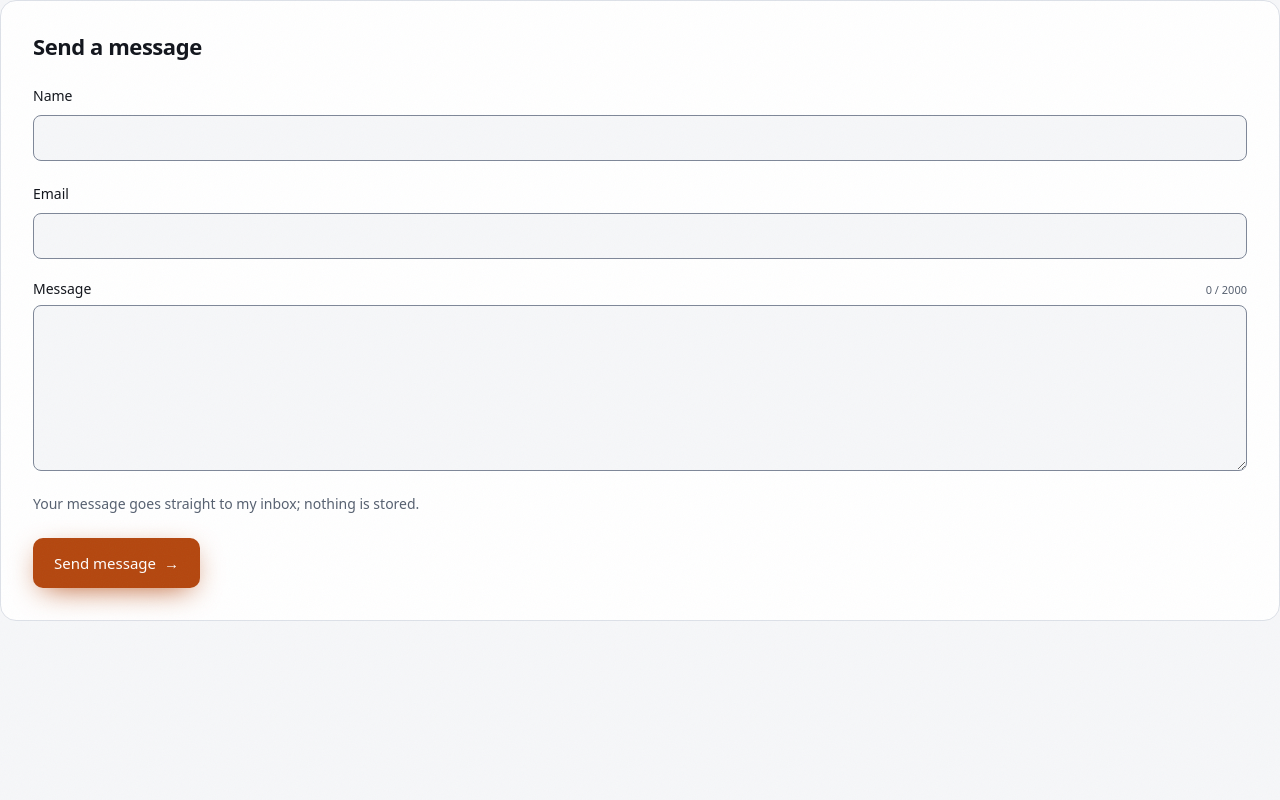
Test: ContactForm › sends once, showing Sending…, even if clicked again while the human check runs
Type "Ada" into the field labelled "Name" at (640, 138), box [33,115,1247,161]
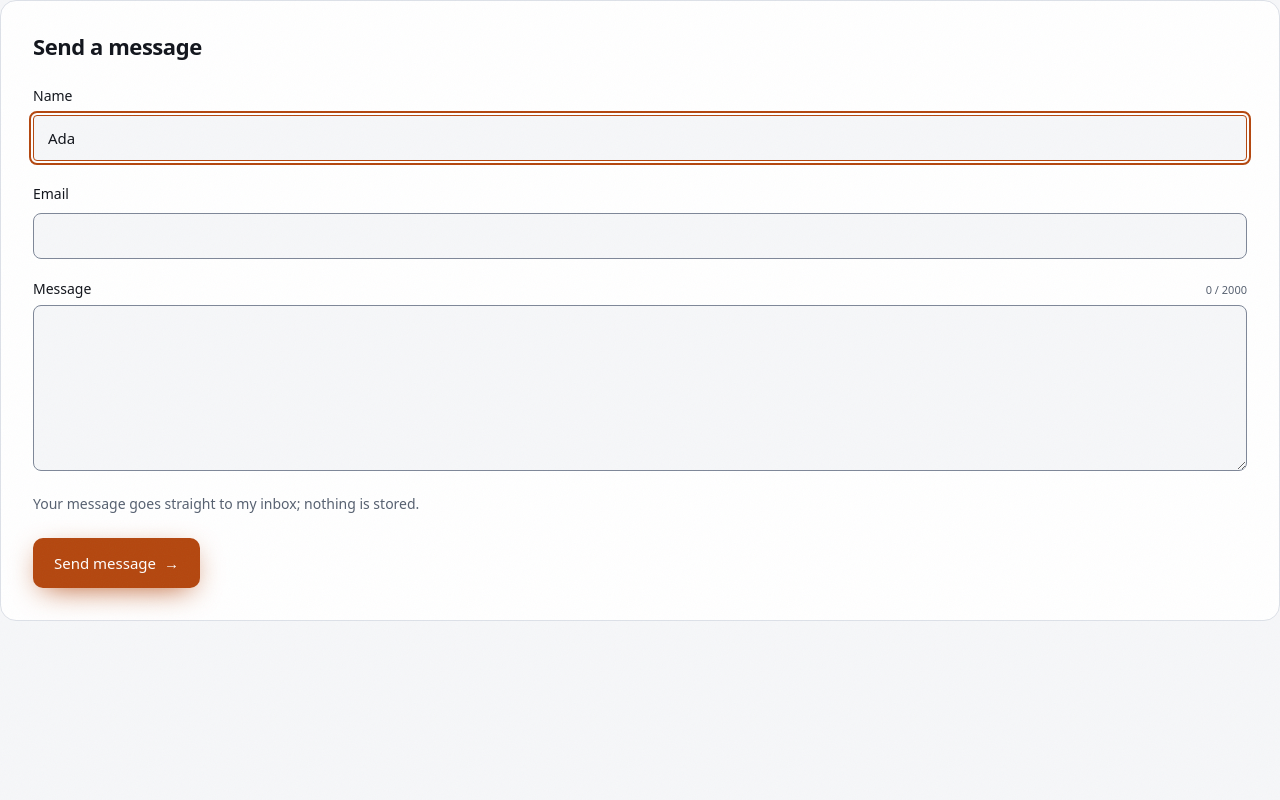
Type "ada@example.com" into the field labelled "Email" at (640, 236), box [33,213,1247,259]
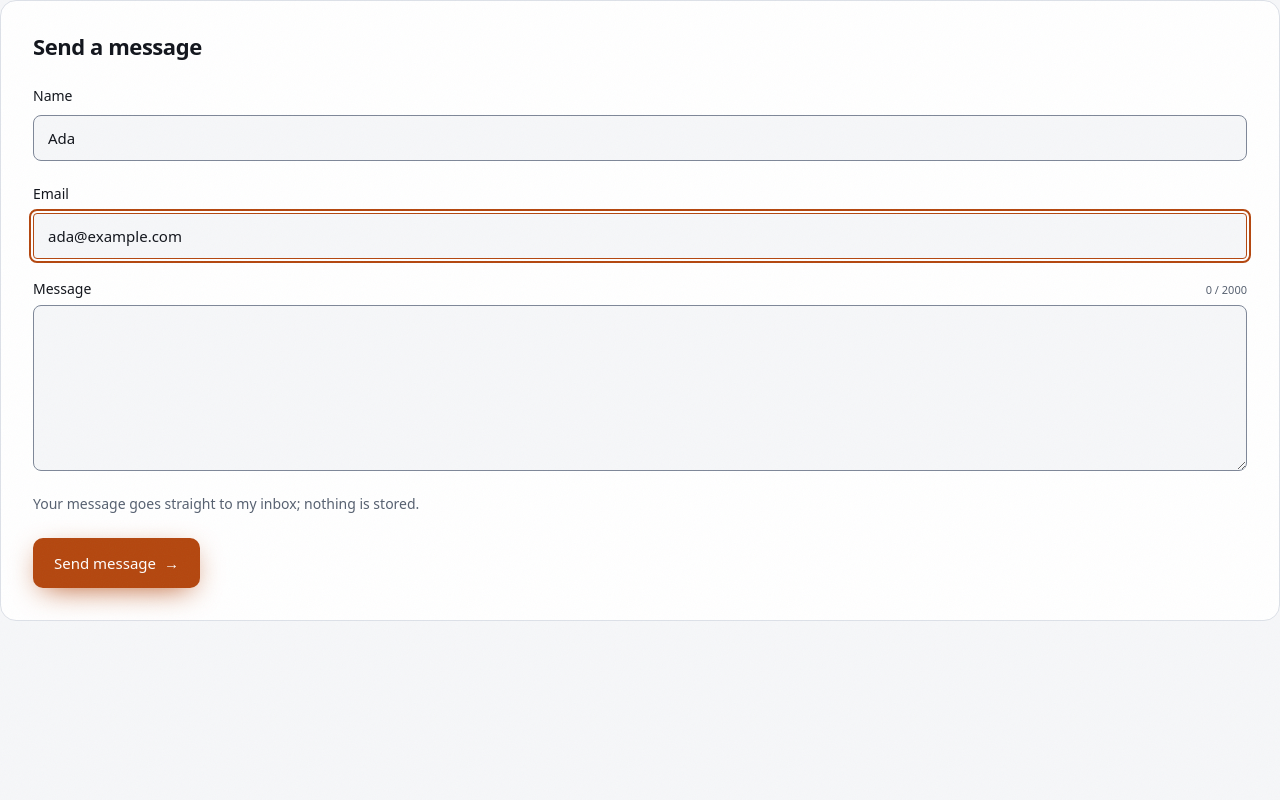
Type "Hello there, nice site!" into the text box labelled "Message" at (640, 388), box [33,305,1247,471]
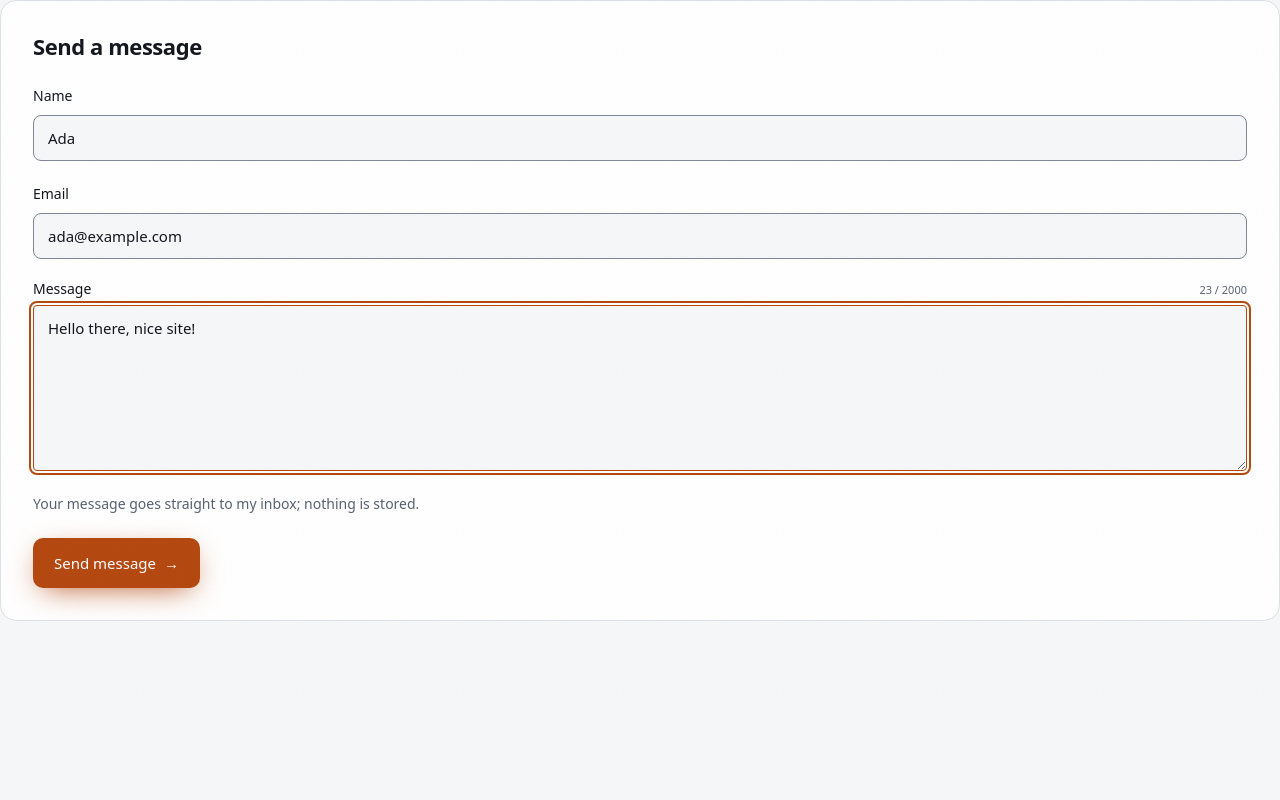
Click the button "Send message →" at (116, 563), box [33,538,200,588]
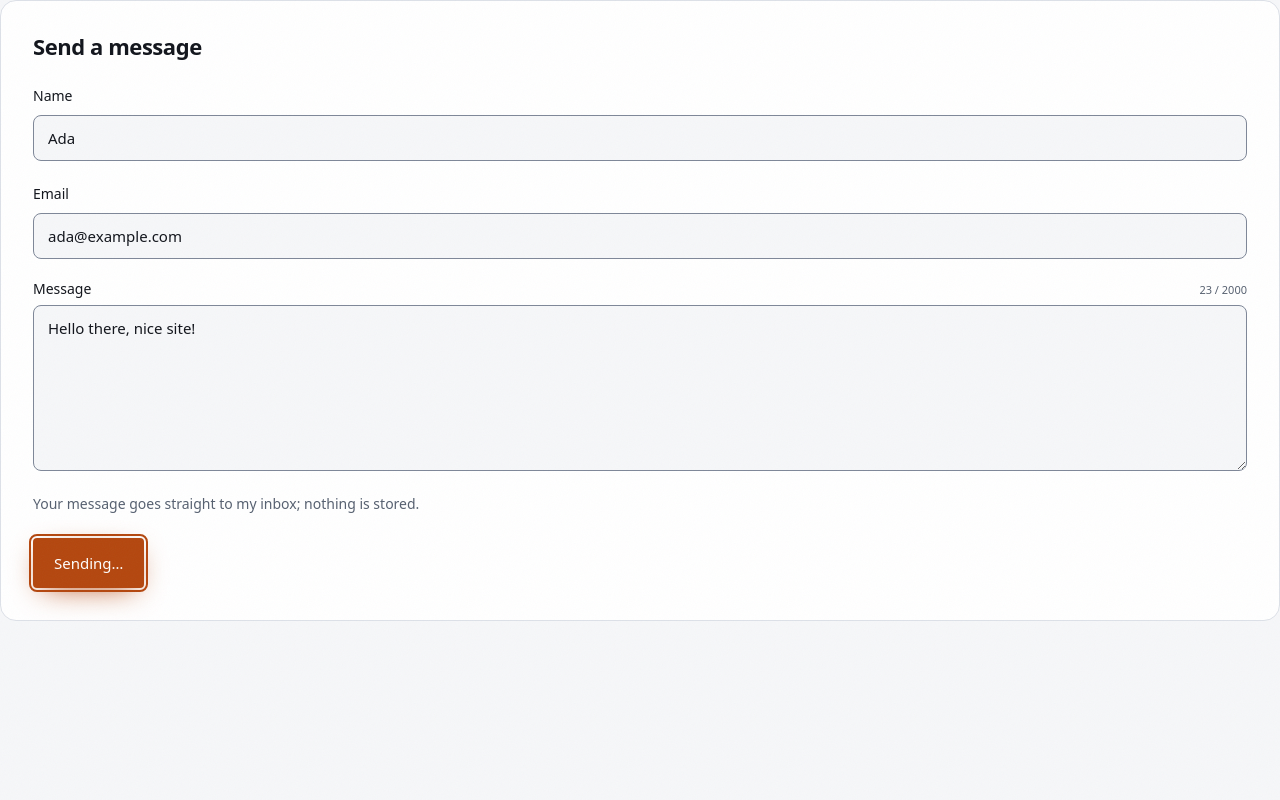
Result: the button named "Send message" reads "Sending…"
Click the button named "Send message" at (89, 563), box [33,538,144,588]
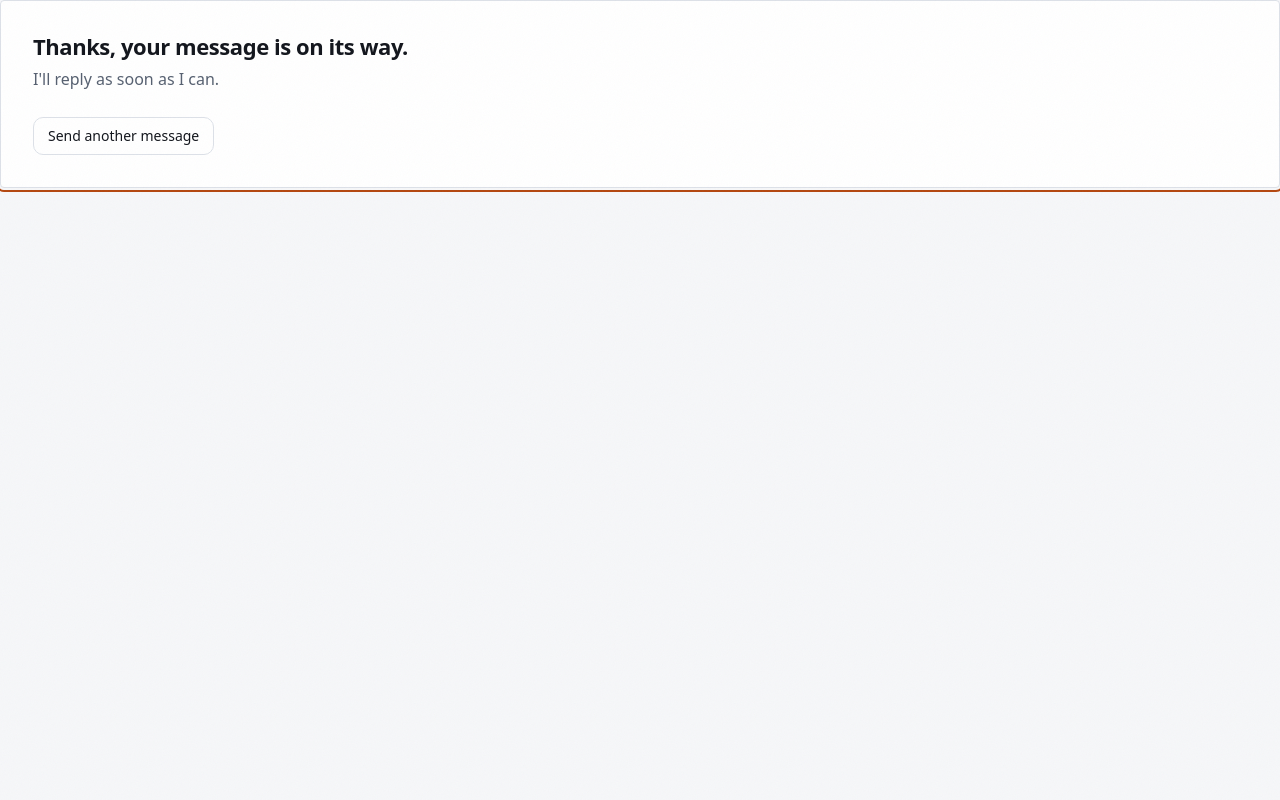
Result: the message is shown at [0,0,1279,188]
